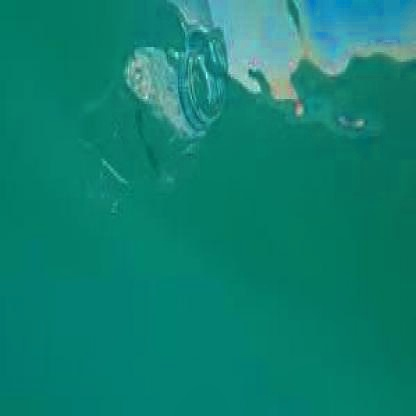pbottle: (52, 22, 233, 208)
